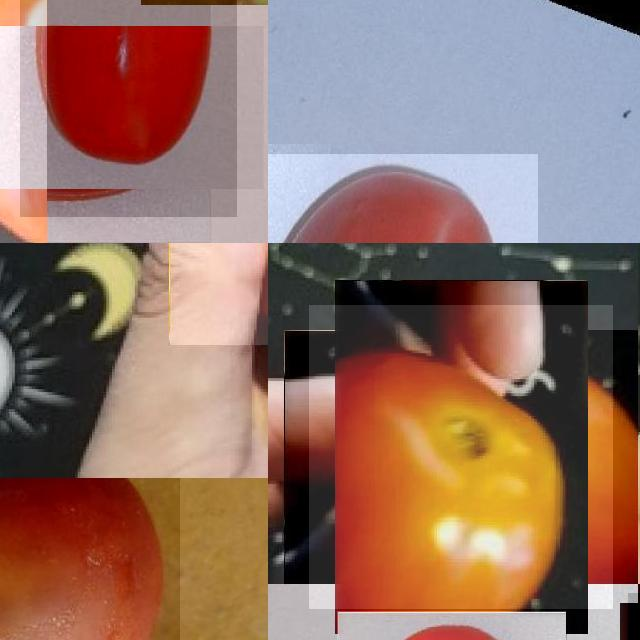1: (309, 305, 613, 609)
Fresh Tomato: (19, 0, 237, 216), (0, 478, 179, 640), (268, 154, 538, 243)
Rotten Tomato: (0, 0, 47, 243), (169, 243, 268, 345)
